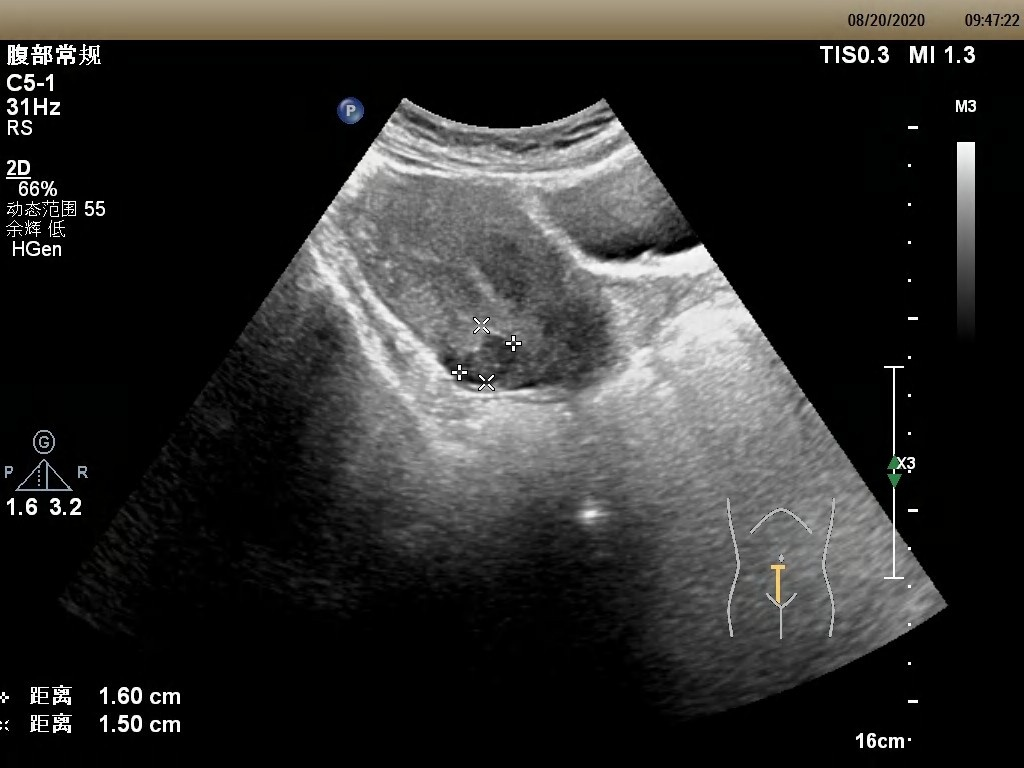肌瘤: (460, 327, 514, 384)
